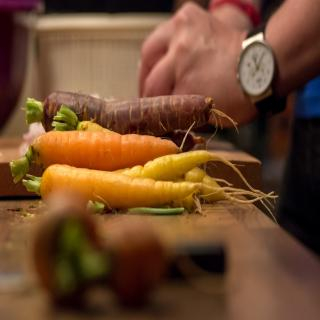Carrot: (9, 116, 198, 184)
